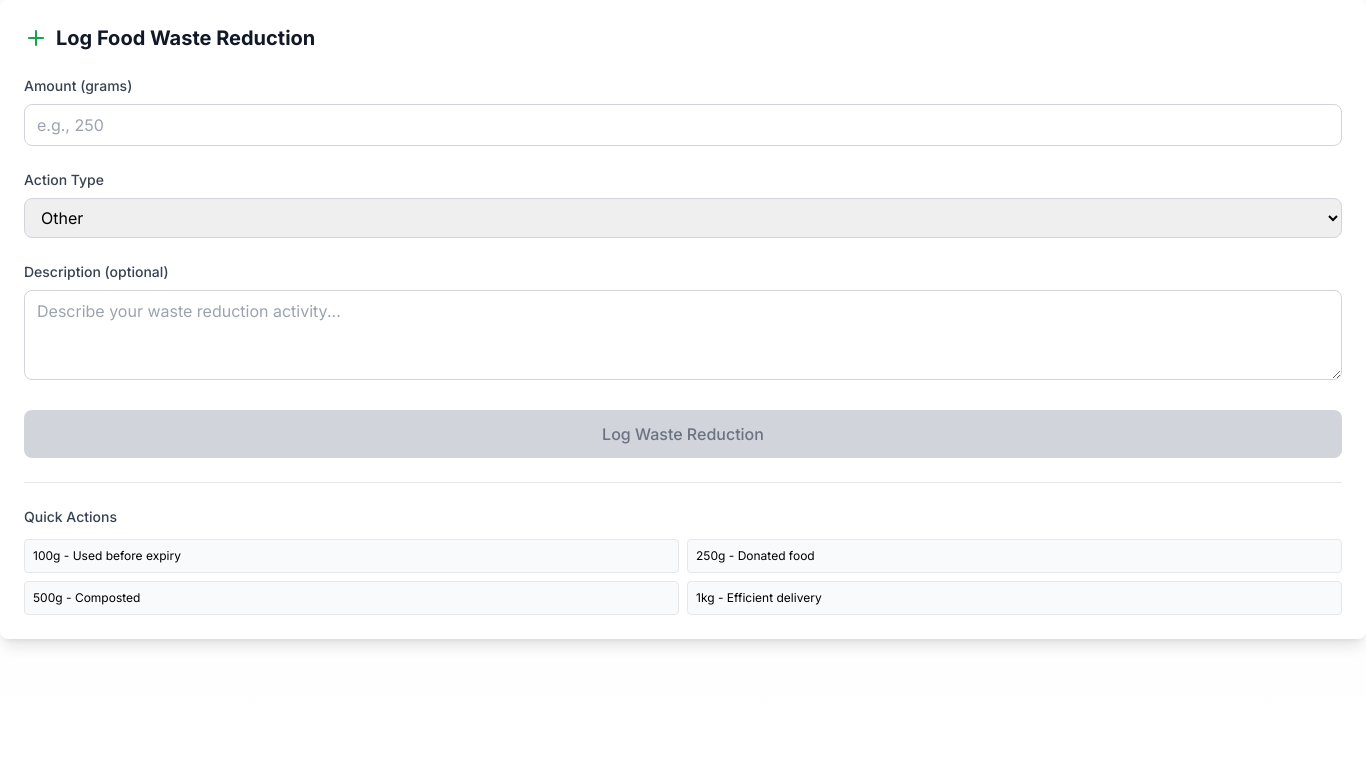
Test: WasteLogger › should show loading state during submission
The image size is (1366, 768).
Step 1. Type "250" into the number field labelled "Amount (grams)" → coordinates (683, 125), box x1=24 y1=104 x2=1342 y2=146
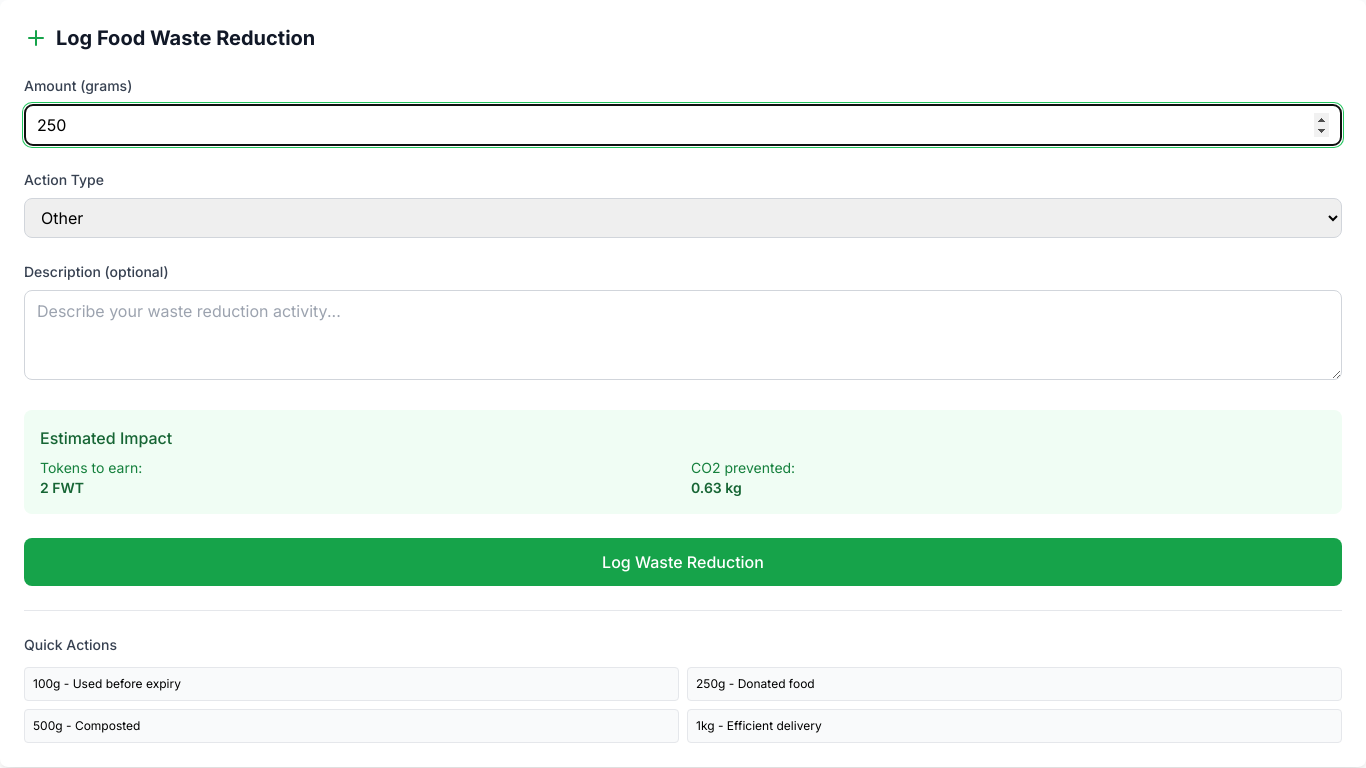
Step 2. Click the button "Log Waste Reduction" → coordinates (683, 562), box x1=24 y1=538 x2=1342 y2=586
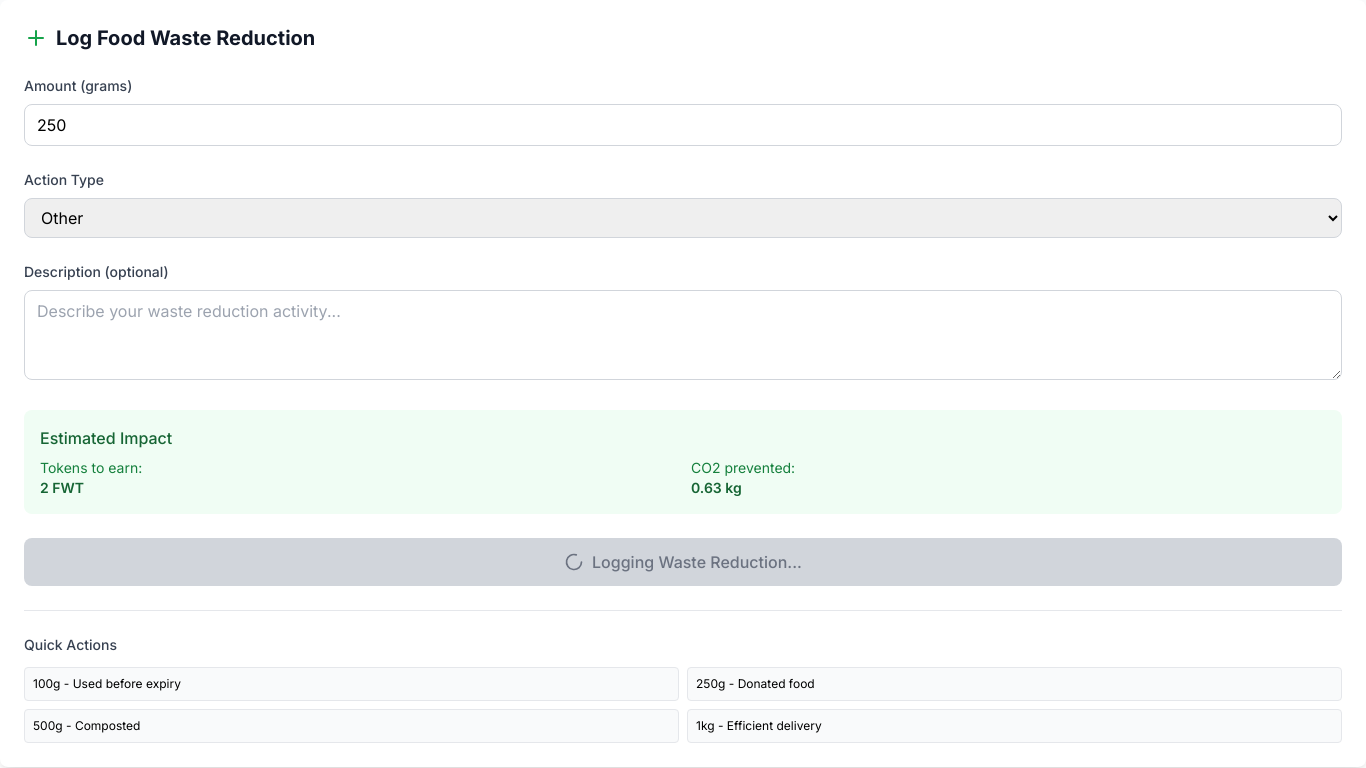
Check: the text "Logging Waste Reduction..." is shown, box x1=564 y1=552 x2=802 y2=572
